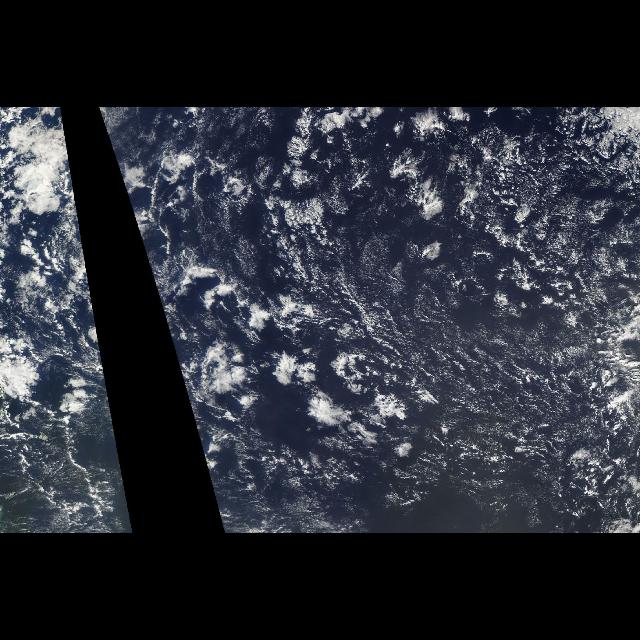Flower: (167, 259, 405, 473), (268, 112, 450, 238)
Gravel: (448, 134, 640, 492)
Sugar: (390, 257, 580, 523)
